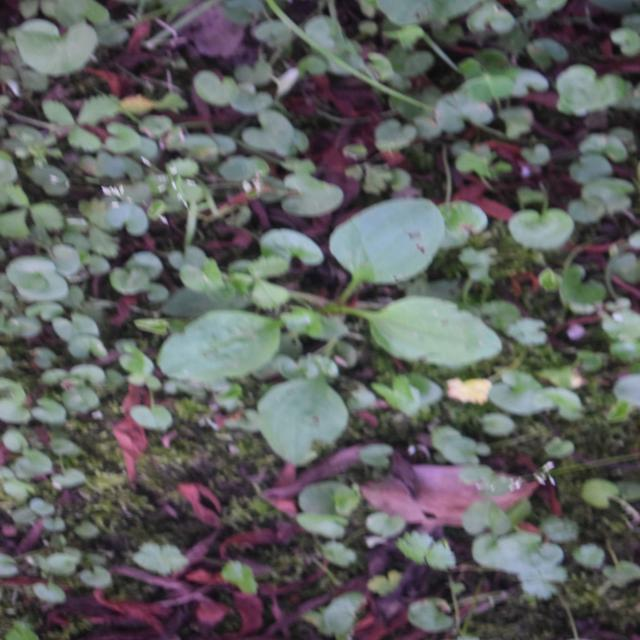plantain: (179, 148, 454, 476)
